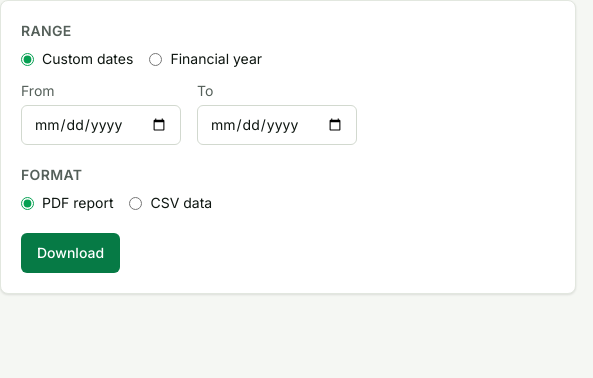
Test: ExportForm › rejects an end date before the start date without downloading
The image size is (593, 378).
Type "2026-06-30" into the date field named "start date". click: (101, 125)
box: 21,105 -> 181,145
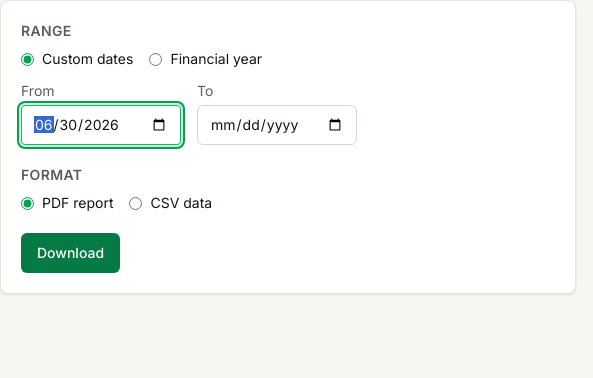
Type "2026-06-01" into the date field named "end date". click: (277, 125)
box: 197,105 -> 357,145
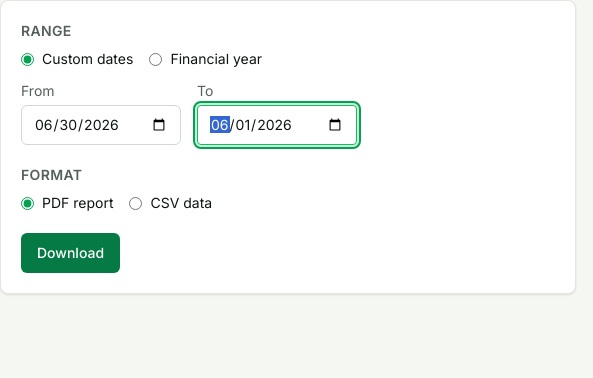
Click the button "Download". click: (71, 253)
box: 21,233 -> 120,273
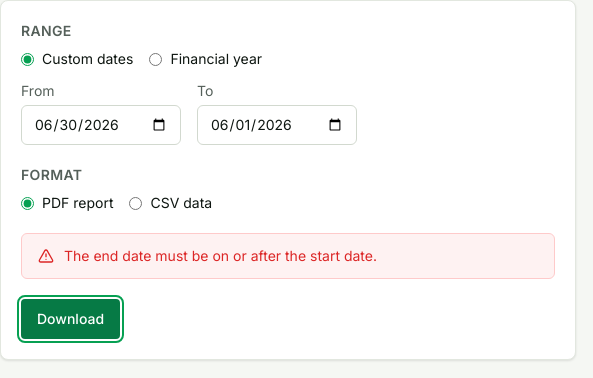
Expected: the message shows "end date must be on or after", 64,247 -> 377,264
